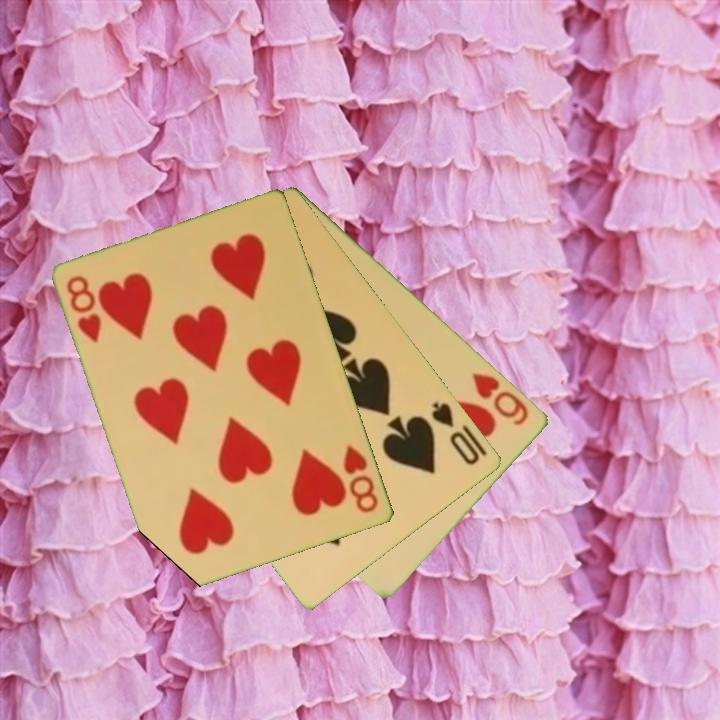10s: (428, 398, 483, 468)
6h: (469, 369, 532, 429)
8h: (340, 441, 382, 516), (63, 272, 105, 346)
